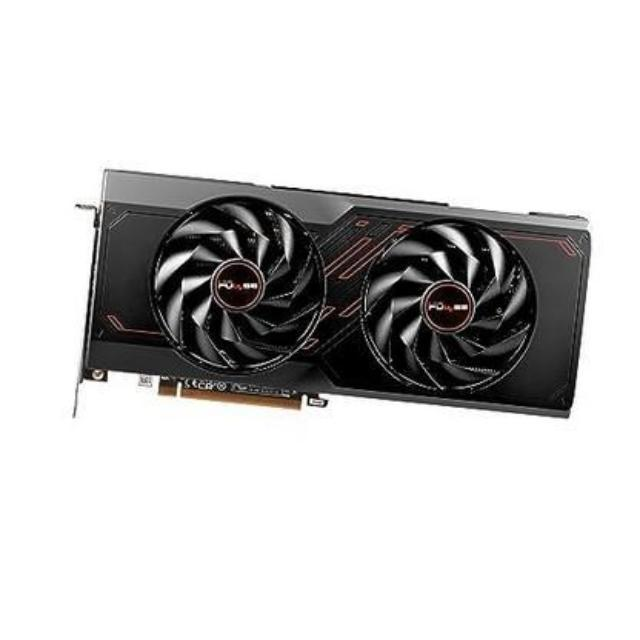GPU: (80, 168, 598, 420)
